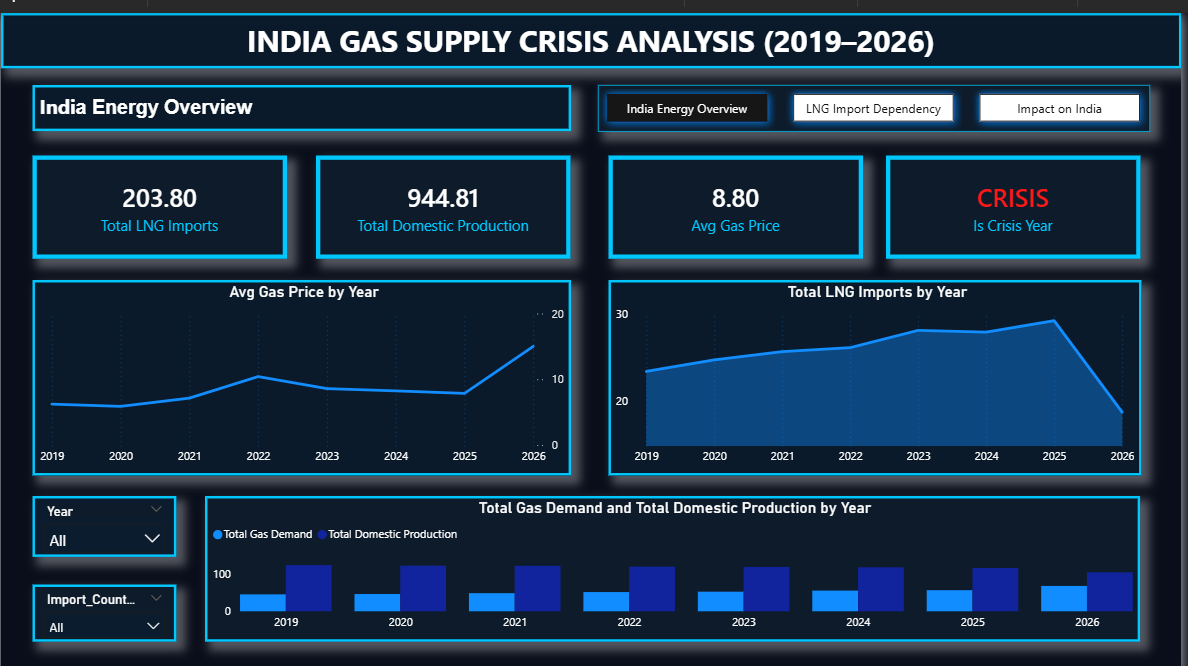

The page's visual inventory and layout, read from the dashboard file:
{"tool":"powerbi","page":{"name":"India Energy Overview","canvas":[1280,720],"ordinal":0},"visuals":[{"type":"textbox","box":[0,0,1280,60],"z":0},{"type":"cardVisual","fields":{"Data":["LNG_Imports_India_2019_2026.Total LNG Imports"]},"box":[34,154,276,112],"z":1000},{"type":"cardVisual","fields":{"Data":["LNG_Imports_India_2019_2026.Avg Gas Price"]},"box":[658,154,276,112],"z":2000},{"type":"cardVisual","fields":{"Data":["LNG_Imports_India_2019_2026.Total Domestic Production"]},"box":[342,154,276,112],"z":3000},{"type":"cardVisual","fields":{"Data":["LNG_Imports_India_2019_2026.Is Crisis Year"]},"box":[960,154,276,112],"z":4000},{"type":"lineChart","fields":{"Category":["LNG_Imports_India_2019_2026.Year"],"Y2":["LNG_Imports_India_2019_2026.Avg Gas Price"]},"box":[34,290,584,212],"z":5000},{"type":"areaChart","fields":{"Category":["LNG_Imports_India_2019_2026.Year"],"Y":["LNG_Imports_India_2019_2026.Total LNG Imports"]},"box":[658,290,578,212],"z":6000},{"type":"slicer","fields":{"Values":["LNG_Imports_India_2019_2026.Year"]},"box":[34,524,156,66],"z":7000},{"type":"slicer","fields":{"Values":["LNG_Imports_India_2019_2026.Import_Country"]},"box":[34,620,156,62],"z":8000},{"type":"textbox","box":[34,78,584,50],"z":9000},{"type":"clusteredColumnChart","fields":{"Category":["LNG_Imports_India_2019_2026.Year"],"Y":["LNG_Imports_India_2019_2026.Total Gas Demand","LNG_Imports_India_2019_2026.Total Domestic Production"]},"box":[222,524,1014,158],"z":10000},{"type":"pageNavigator","box":[647.4,78.1,598.6,50.4],"z":11000}]}

Visuals, with their boxes in screenshot pixels (x1, y1, x2, y2), scaled from the page's 1280x720 canvas onto the 1188x666 screenshot:
textbox: (x1=0, y1=0, x2=1187, y2=56)
cardVisual - LNG_Imports_India_2019_2026.Total LNG Imports: (x1=32, y1=142, x2=288, y2=246)
cardVisual - LNG_Imports_India_2019_2026.Avg Gas Price: (x1=611, y1=142, x2=867, y2=246)
cardVisual - LNG_Imports_India_2019_2026.Total Domestic Production: (x1=317, y1=142, x2=574, y2=246)
cardVisual - LNG_Imports_India_2019_2026.Is Crisis Year: (x1=891, y1=142, x2=1147, y2=246)
lineChart - LNG_Imports_India_2019_2026.Year x LNG_Imports_India_2019_2026.Avg Gas Price: (x1=32, y1=268, x2=574, y2=464)
areaChart - LNG_Imports_India_2019_2026.Year x LNG_Imports_India_2019_2026.Total LNG Imports: (x1=611, y1=268, x2=1147, y2=464)
slicer - LNG_Imports_India_2019_2026.Year: (x1=32, y1=485, x2=176, y2=546)
slicer - LNG_Imports_India_2019_2026.Import_Country: (x1=32, y1=574, x2=176, y2=631)
textbox: (x1=32, y1=72, x2=574, y2=118)
clusteredColumnChart - LNG_Imports_India_2019_2026.Year x LNG_Imports_India_2019_2026.Total Gas Demand: (x1=206, y1=485, x2=1147, y2=631)
pageNavigator: (x1=601, y1=72, x2=1156, y2=119)
